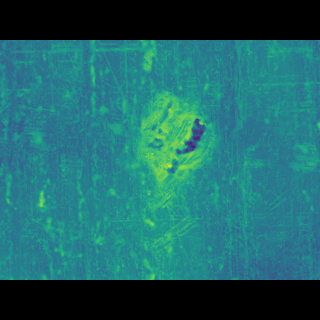Loch: (132, 110, 213, 183), (103, 183, 178, 209), (152, 201, 193, 231)
